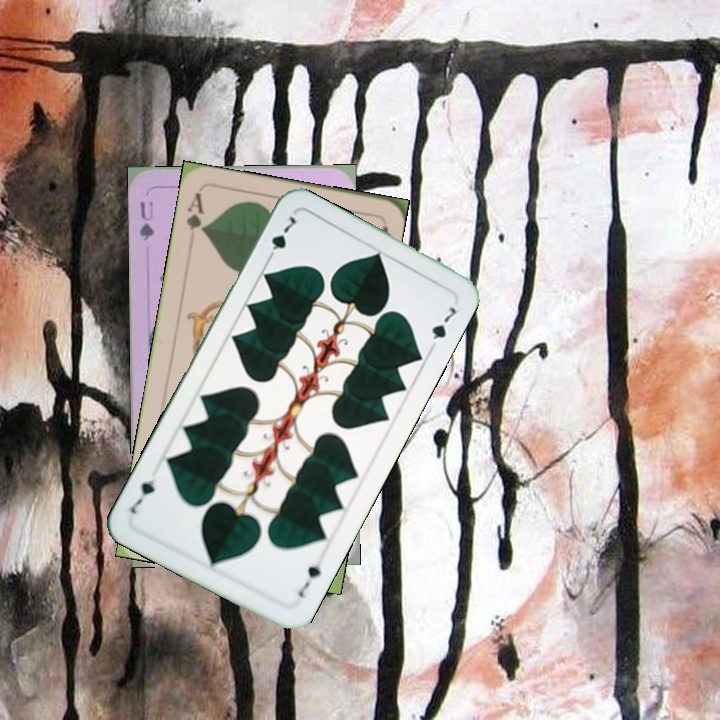G7: (262, 211, 299, 265), (294, 554, 326, 601)
GA: (182, 188, 207, 237)
GU: (135, 197, 157, 245)
